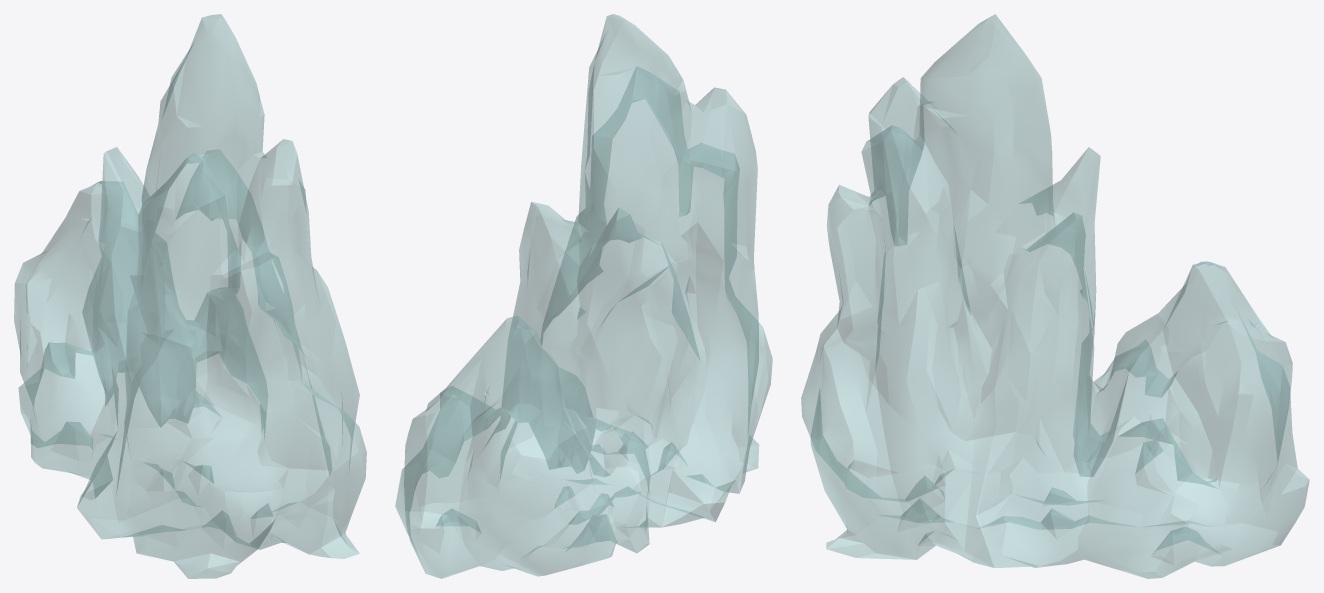
Rendered from frozen_ice.glb.
The picture shows the model from 3 angles, left to right: view 1: azimuth 30°, elevation 25°; view 2: azimuth 150°, elevation 25°; view 3: azimuth 270°, elevation 25°; orthographic projection. The views are drawn at different scales.
Visible parts, largest first — view 1: IceCluster; view 2: IceCluster; view 3: IceCluster.
Part boxes in pixels (box(x1,y1,x2,y2)): IceCluster: box(14, 14, 366, 578); IceCluster: box(395, 14, 772, 578); IceCluster: box(801, 14, 1309, 578).
Size of the model in its own units: 5.24 by 9.98 by 9.
